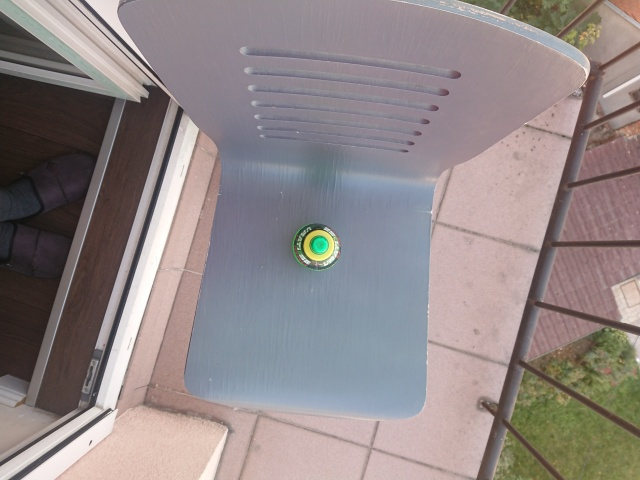Vindi Iso Sport Lemon-Grapefruit 500mL: (289, 220, 344, 274)
